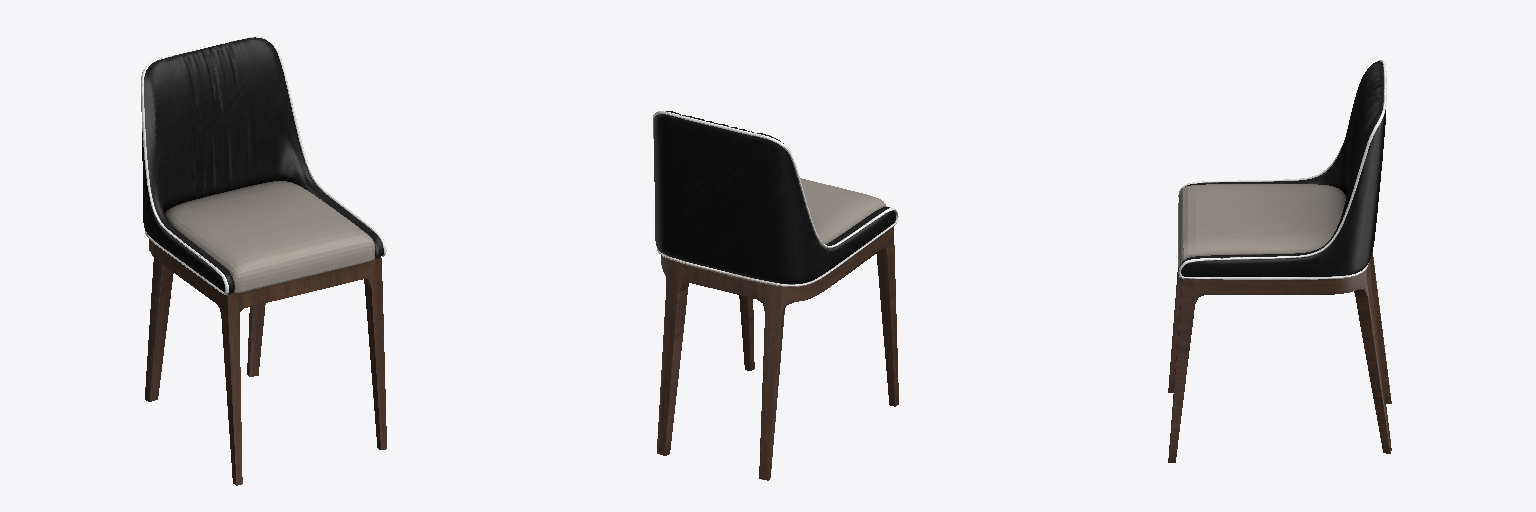
3 renders of one model, left to right at view 1: azimuth 30°, elevation 25°; view 2: azimuth 150°, elevation 25°; view 3: azimuth 270°, elevation 25°, orthographic.
Visible parts, largest first — view 1: solid_001, solid_003, solid_004, solid_002; view 2: solid_001, solid_004, solid_003, solid_002; view 3: solid_003, solid_001, solid_004, solid_002.
Boxes of the visible parts, x1,y1,x2,y2 form: solid_001: [142, 37, 383, 293]; solid_003: [165, 181, 375, 292]; solid_004: [145, 239, 386, 485]; solid_002: [141, 36, 386, 294]; solid_001: [654, 111, 895, 283]; solid_004: [657, 226, 898, 480]; solid_003: [800, 178, 886, 244]; solid_002: [653, 111, 898, 286]; solid_003: [1178, 184, 1345, 267]; solid_001: [1180, 61, 1385, 276]; solid_004: [1168, 252, 1391, 462]; solid_002: [1178, 60, 1386, 279].
Bounding box in the file's own units: 0.3373 × 0.6773 × 0.4021.
Materials: 1 (1 with a texture image).